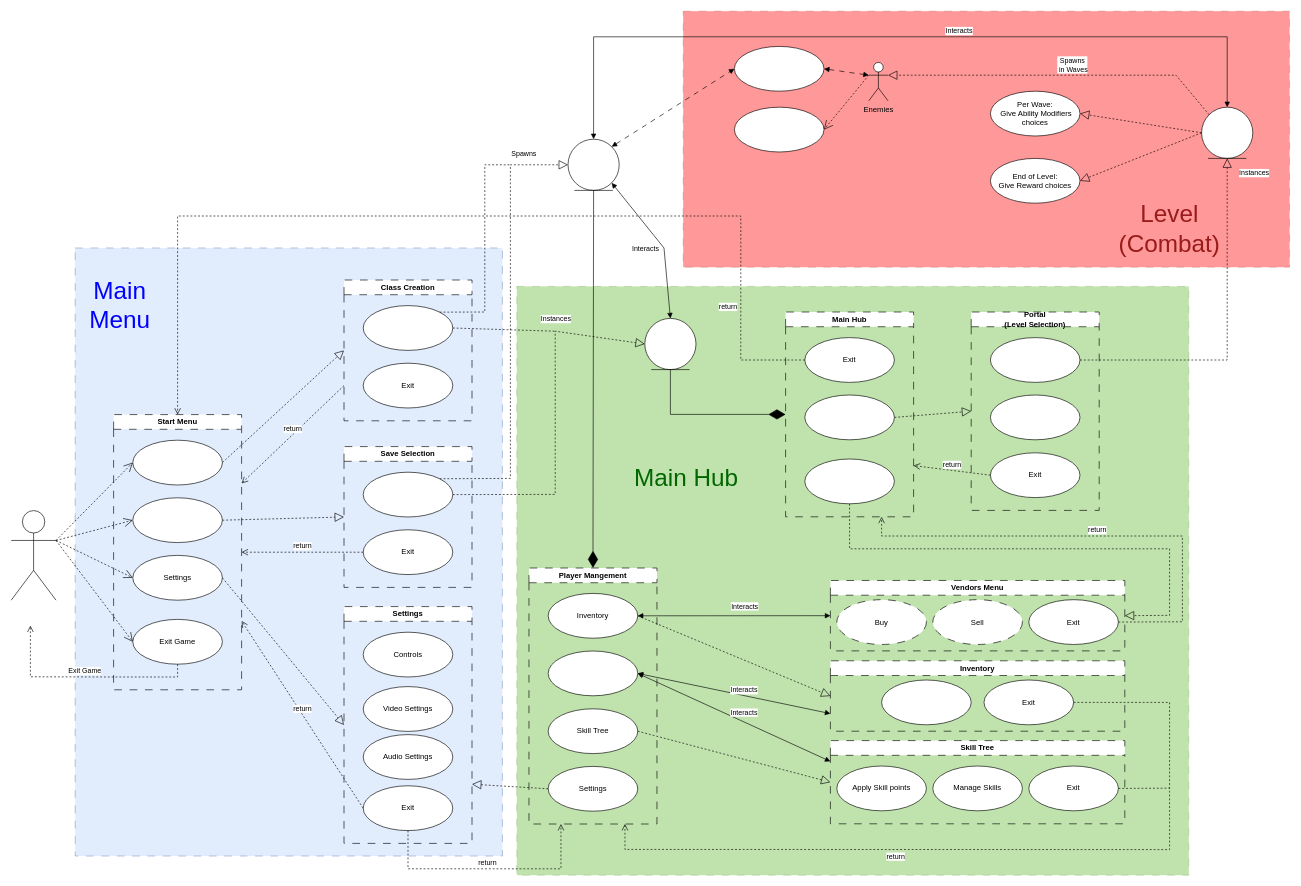
This 1301x886 diagram has some shape labels left out. Here are the shapes that lost their labels. From the top down, the centre of each, then its label:
At [779,68]: "Attacks & Abilities".
At [779,129]: "On Death: Give Xp".
At [1227,132]: "Level (Map)".
At [593,164]: "Player Character".
At [408,327]: "Class List Select".
At [670,344]: "Main Hub (Map)".
At [1035,359]: "Levels".
At [849,417]: "Portal".
At [1035,417]: "Difficulty (Info about rewards)".
At [177,462]: "New Game (Create New Character)".
At [849,481]: "Vendors".
At [408,494]: "Save List Select/Delete".
At [177,520]: "Load Save".
At [33,555]: "Player".
At [593,673]: "Character Stats".
At [926,702]: "Equip/Unequip Items".
